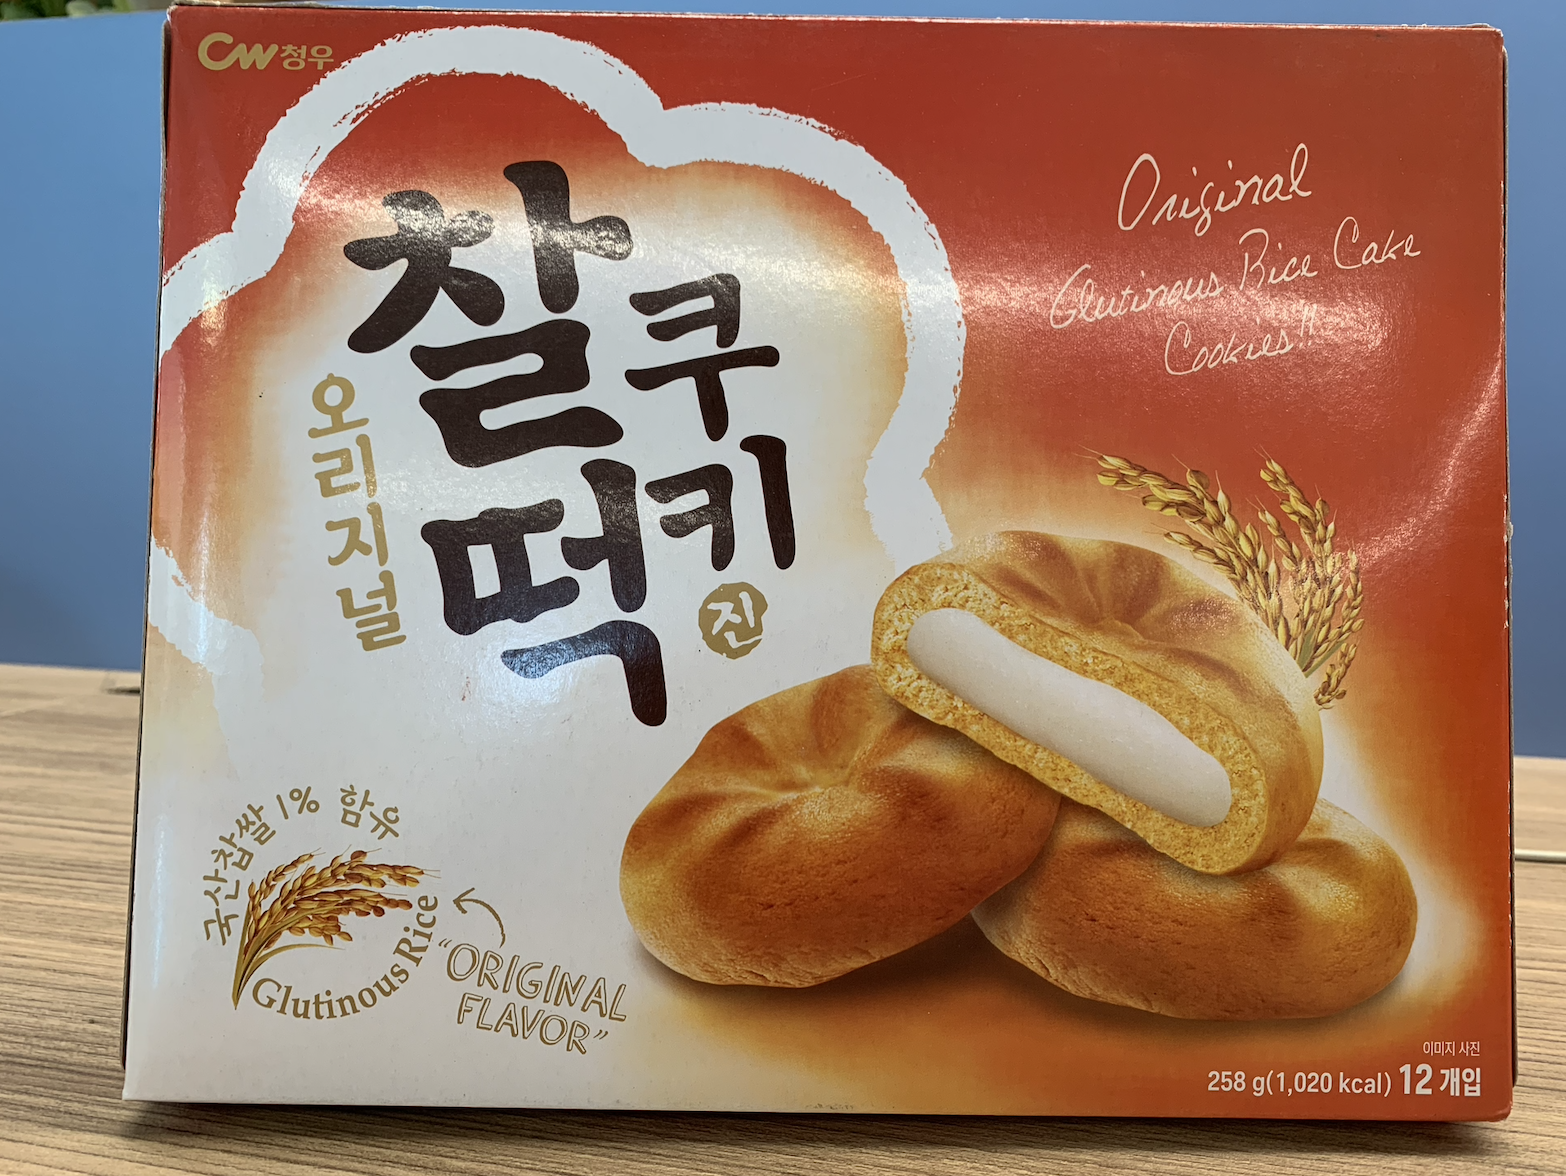cookies_200g-299g: (198, 31, 1493, 1104)
